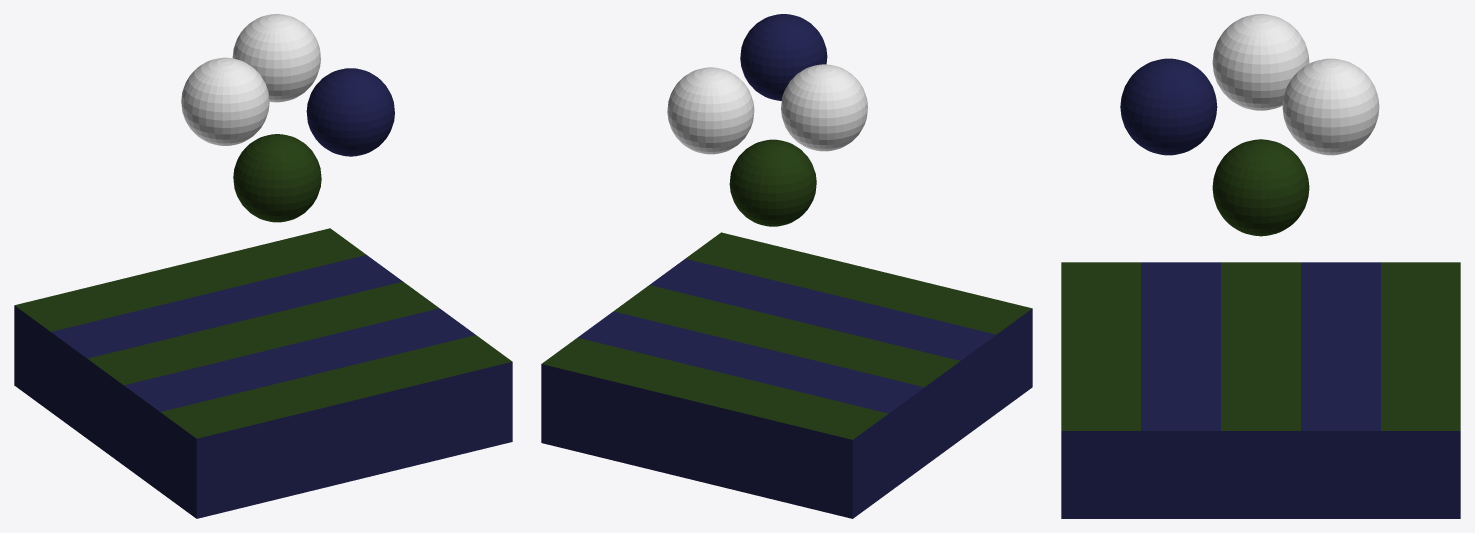
3 renders of one model, left to right at view 1: azimuth 30°, elevation 25°; view 2: azimuth 150°, elevation 25°; view 3: azimuth 270°, elevation 25°, orthographic. The views are drawn at different scales.
Parts seen in each view (by area): view 1: Floor, Sphere, Sphere.001, Sphere.002, Sphere.003; view 2: Floor, Sphere, Sphere.001, Sphere.003, Sphere.002; view 3: Floor, Sphere.003, Sphere, Sphere.002, Sphere.001.
Part boxes in pixels (<box>): Floor: <box>14,228,512,518</box>; Sphere: <box>233,134,321,222</box>; Sphere.001: <box>181,57,269,145</box>; Sphere.002: <box>306,68,394,156</box>; Sphere.003: <box>232,14,320,102</box>; Floor: <box>541,232,1032,518</box>; Sphere: <box>729,139,816,226</box>; Sphere.001: <box>781,64,867,151</box>; Sphere.003: <box>667,67,754,154</box>; Sphere.002: <box>740,14,827,100</box>; Floor: <box>1061,262,1460,518</box>; Sphere.003: <box>1282,58,1379,155</box>; Sphere: <box>1212,139,1309,236</box>; Sphere.002: <box>1120,58,1217,155</box>; Sphere.001: <box>1212,14,1309,110</box>.
Size of the model in its own units: 8.24 by 9.01 by 8.24.
